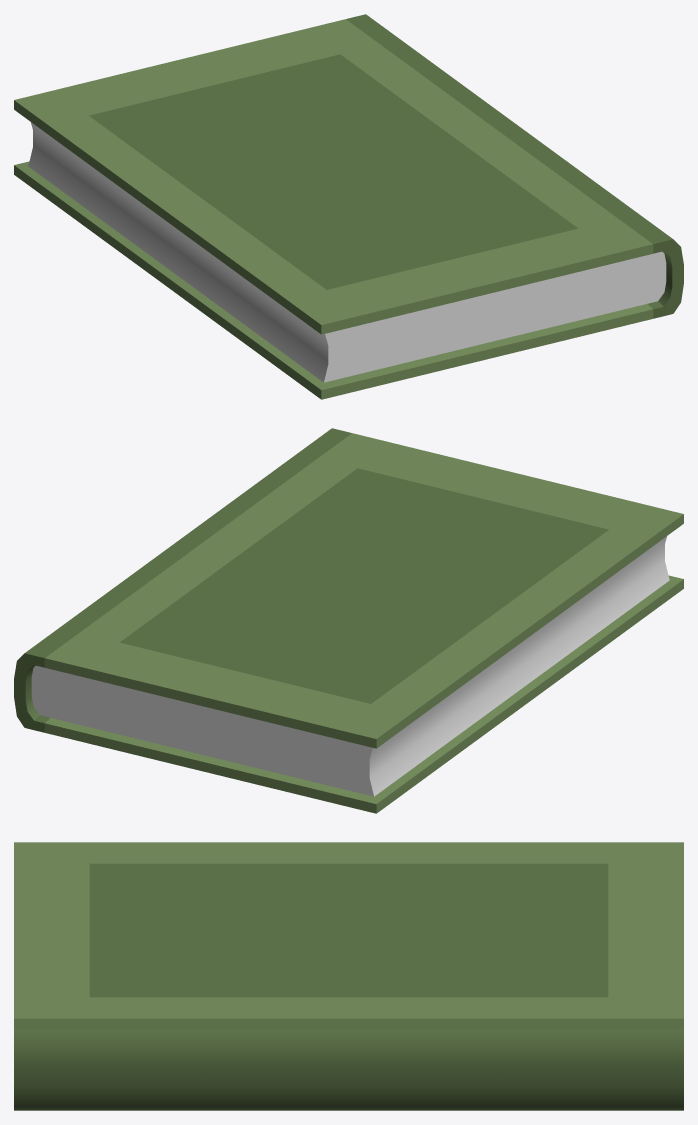
Rendered from Book_02.fbx.
3 views of the same model, one above another, from view 1: azimuth 30°, elevation 25°; view 2: azimuth 150°, elevation 25°; view 3: azimuth 270°, elevation 25° (orthographic). The views are drawn at different scales.
Visible parts, largest first — view 1: Book_02; view 2: Book_02; view 3: Book_02.
Boxes of the visible parts, x1,y1,x2,y2 form: Book_02: (14,14,683,399); Book_02: (14,428,683,813); Book_02: (14,842,683,1110).
Size of the model in its own units: 0.1611 by 0.0317 by 0.2367.
